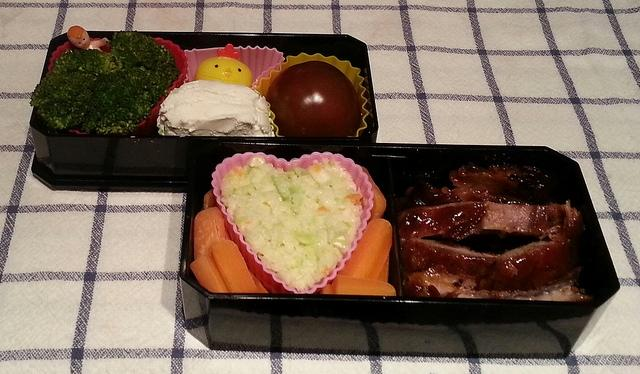apple: (267, 61, 361, 136)
broccoli: (49, 48, 124, 76)
carrot: (337, 218, 392, 280), (194, 206, 229, 292), (210, 240, 259, 291), (362, 166, 386, 226), (331, 275, 396, 296), (190, 256, 225, 293), (249, 270, 269, 294), (376, 254, 389, 282), (204, 188, 218, 210), (320, 284, 333, 294)
